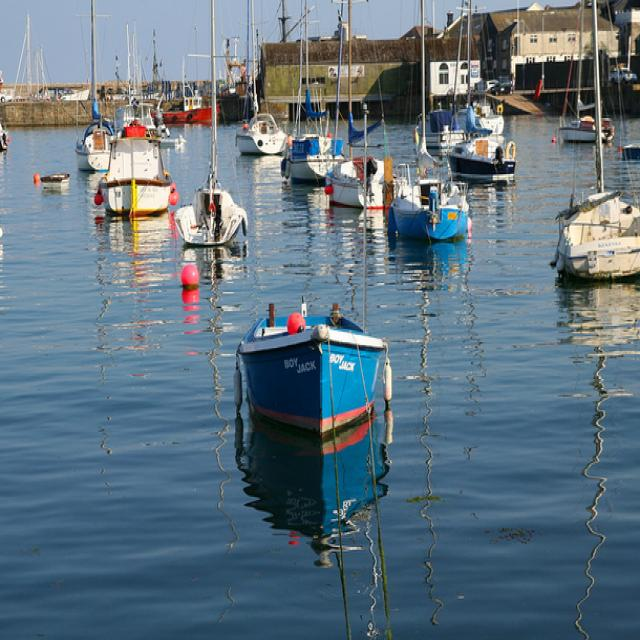buoy: (173, 254, 220, 303)
houseboat: (227, 279, 390, 430), (558, 174, 640, 292), (98, 124, 175, 230), (229, 105, 282, 158)
